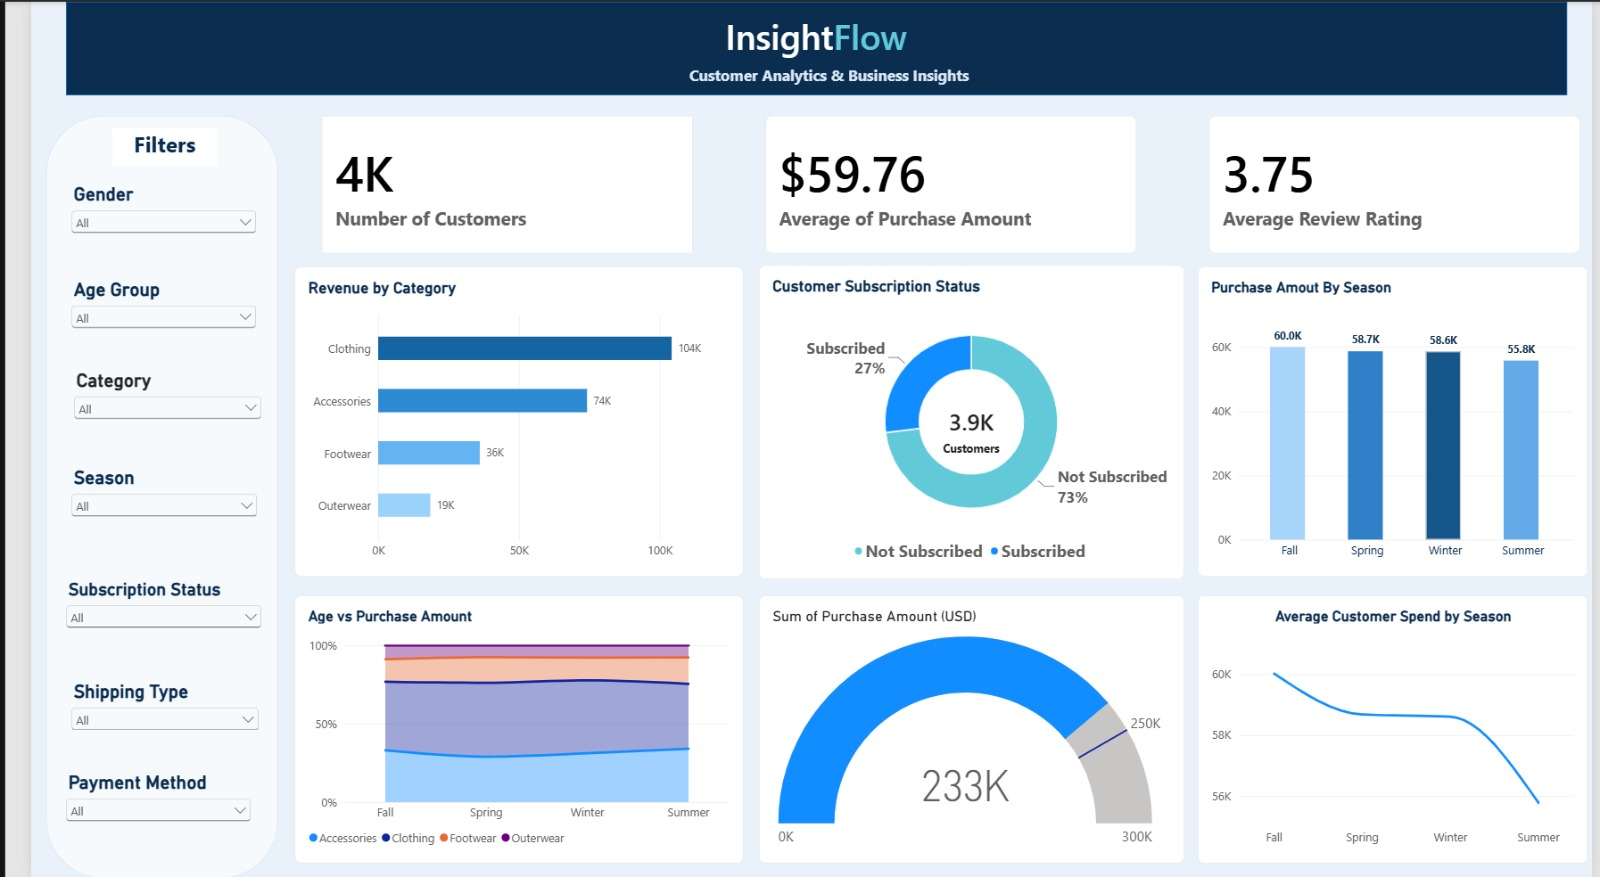

The page's visual inventory and layout, read from the dashboard file:
{"tool":"powerbi","page":{"name":"Page 1","canvas":[1920,1080],"ordinal":0},"visuals":[{"type":"cardVisual","fields":{"Data":["Customer dataset.Number of Customers","Customer dataset.Average of Purchase Amount","Customer dataset.Average Review Rating"]},"box":[358,140,1551.7,170],"z":0},{"type":"clusteredBarChart","title":"Revenue by Category","fields":{"Category":["Customer dataset.Category"],"Y":["Sum(Customer dataset.Purchase Amount (USD))"]},"box":[325,326.7,551.7,381.7],"z":1000},{"type":"donutChart","title":"Customer Subscription Status","fields":{"Category":["Customer dataset.Subscription Label"],"Y":["CountNonNull(Customer dataset.Customer ID)"]},"box":[895,325,523.3,386.7],"z":2000},{"type":"textbox","box":[1065,540,183.3,33.3],"z":3000},{"type":"clusteredColumnChart","title":"Purchase Amout By Season","fields":{"Category":["Customer dataset.Season"],"Y":["Sum(Customer dataset.Purchase Amount (USD))"]},"box":[1435,326.7,480,381.7],"z":4000},{"type":"hundredPercentStackedAreaChart","title":"Age vs Purchase Amount","fields":{"Category":["Customer dataset.Season"],"Series":["Customer dataset.Category"],"Y":["Sum(Customer dataset.Purchase Amount (USD))"]},"box":[325,731.7,551.7,330],"z":5000},{"type":"lineChart","title":"Average Customer Spend by Season","fields":{"Category":["Customer dataset.Season"],"Y":["Sum(Customer dataset.Purchase Amount (USD))"]},"box":[1435,731.7,480,330],"z":6000},{"type":"gauge","fields":{"Y":["Sum(Customer dataset.Purchase Amount (USD))"]},"box":[895,731.7,523.3,330],"z":7000},{"type":"shape","box":[18.3,140,285.7,940],"z":8000},{"type":"slicer","fields":{"Values":["Customer dataset.Gender"]},"box":[43.8,223.8,236.7,83.3],"z":9000},{"type":"slicer","fields":{"Values":["Customer dataset.Age Group"]},"box":[45,341.2,236.7,100],"z":10000},{"type":"slicer","fields":{"Values":["Customer dataset.Category"]},"box":[48.3,453.3,240,86.7],"z":11000},{"type":"slicer","fields":{"Values":["Customer dataset.Season"]},"box":[45,573.3,238.3,93.3],"z":12000},{"type":"slicer","fields":{"Values":["Customer dataset.Subscription Status1"]},"box":[37.5,711.2,250,110],"z":13000},{"type":"slicer","fields":{"Values":["Customer dataset.Payment Method"]},"box":[38.3,948.3,236.7,113.3],"z":14000},{"type":"slicer","fields":{"Values":["Customer dataset.Shipping Type"]},"box":[45,836.7,240,60],"z":15000},{"type":"textbox","box":[100,156.2,128,46],"z":16000},{"type":"shape","box":[42.5,0,1847.5,115],"z":17000},{"type":"textbox","box":[798.3,13.3,335,65],"z":18000},{"type":"textbox","box":[810,76.7,368.3,38.3],"z":19000}]}

Visuals, with their boxes in screenshot pixels (x1, y1, x2, y2), scaled from the page's 1920x1080 canvas onto the 1600x877 screenshot:
cardVisual - Customer dataset.Number of Customers x Customer dataset.Average of Purchase Amount: left=298, top=114, right=1591, bottom=252
"Revenue by Category" clusteredBarChart: left=271, top=265, right=731, bottom=575
"Customer Subscription Status" donutChart: left=746, top=264, right=1182, bottom=578
textbox: left=888, top=438, right=1040, bottom=466
"Purchase Amout By Season" clusteredColumnChart: left=1196, top=265, right=1596, bottom=575
"Age vs Purchase Amount" hundredPercentStackedAreaChart: left=271, top=594, right=731, bottom=862
"Average Customer Spend by Season" lineChart: left=1196, top=594, right=1596, bottom=862
gauge - Sum(Customer dataset.Purchase Amount (USD)): left=746, top=594, right=1182, bottom=862
shape: left=15, top=114, right=253, bottom=876
slicer - Customer dataset.Gender: left=36, top=182, right=234, bottom=249
slicer - Customer dataset.Age Group: left=38, top=277, right=235, bottom=358
slicer - Customer dataset.Category: left=40, top=368, right=240, bottom=438
slicer - Customer dataset.Season: left=38, top=466, right=236, bottom=541
slicer - Customer dataset.Subscription Status1: left=31, top=578, right=240, bottom=667
slicer - Customer dataset.Payment Method: left=32, top=770, right=229, bottom=862
slicer - Customer dataset.Shipping Type: left=38, top=679, right=238, bottom=728
textbox: left=83, top=127, right=190, bottom=164
shape: left=35, top=0, right=1575, bottom=93
textbox: left=665, top=11, right=944, bottom=64
textbox: left=675, top=62, right=982, bottom=93
